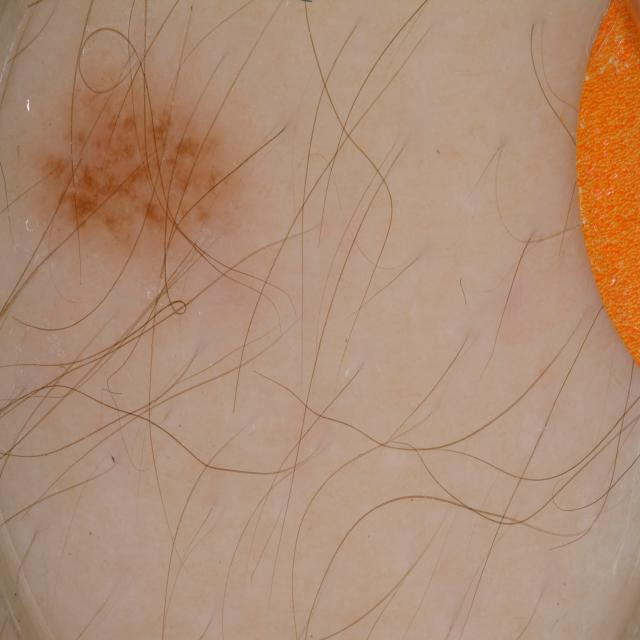Benign: (38, 71, 237, 259)
